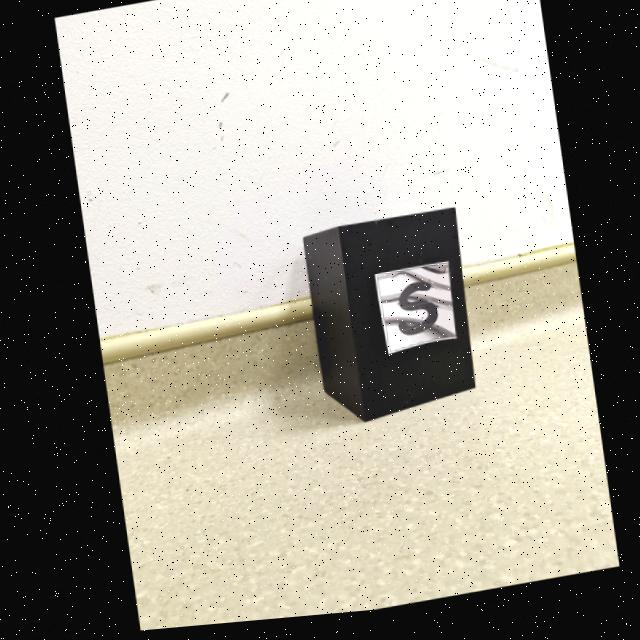S: (393, 288, 435, 342)
